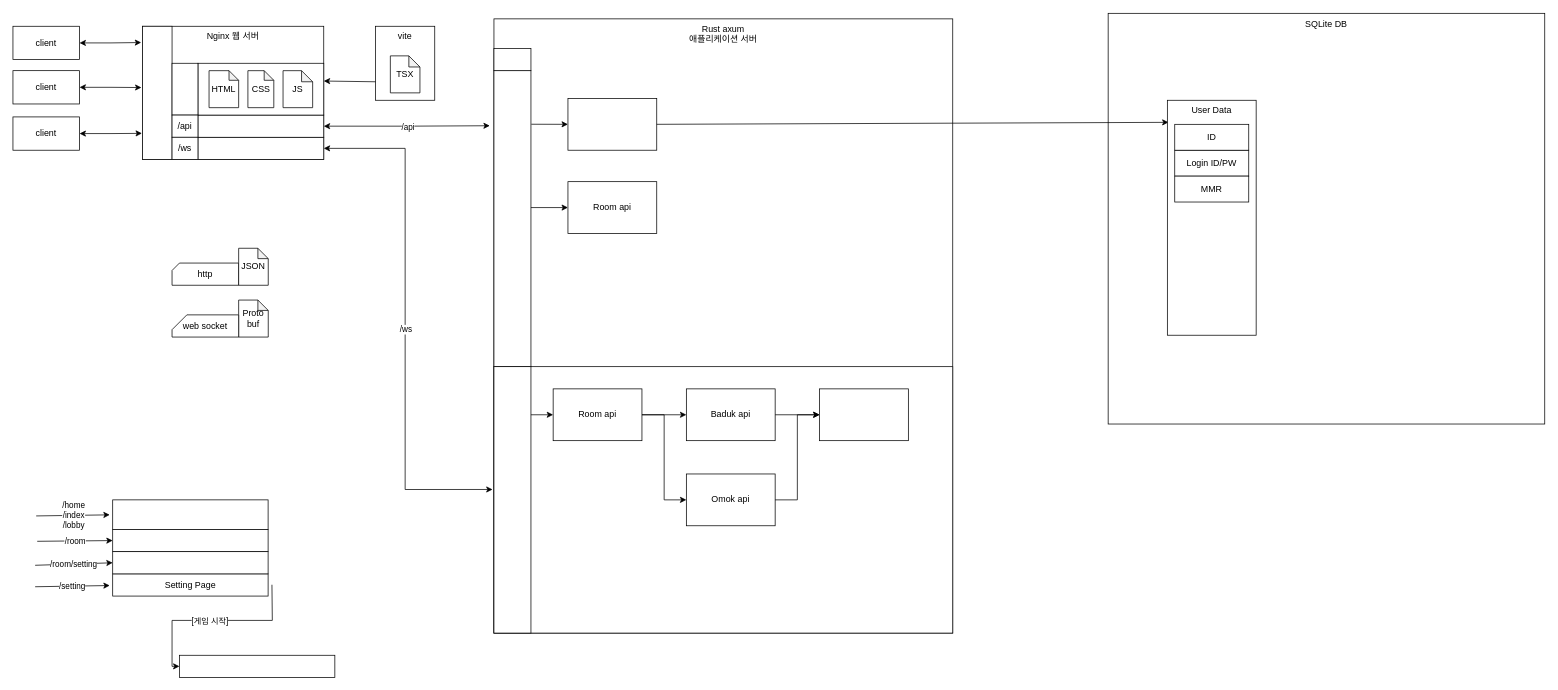
Image size: 1558x690. Some labels were removed from this diagram. The shapes that lost their labels are listed below. From the top down, each one's centre as x and y in pixels, then its label:
the point at 512,59: main
the point at 157,92: http 요청
the point at 184,89: get 요청
the point at 260,125: API
the point at 612,124: User api
the point at 260,148: Web socket 연결
the point at 512,218: http Router
the point at 863,414: Baduk board api
the point at 190,514: Lobby Page
the point at 512,499: ws Router
the point at 190,540: Room Page
the point at 190,562: room setting page
the point at 257,666: Game Page
